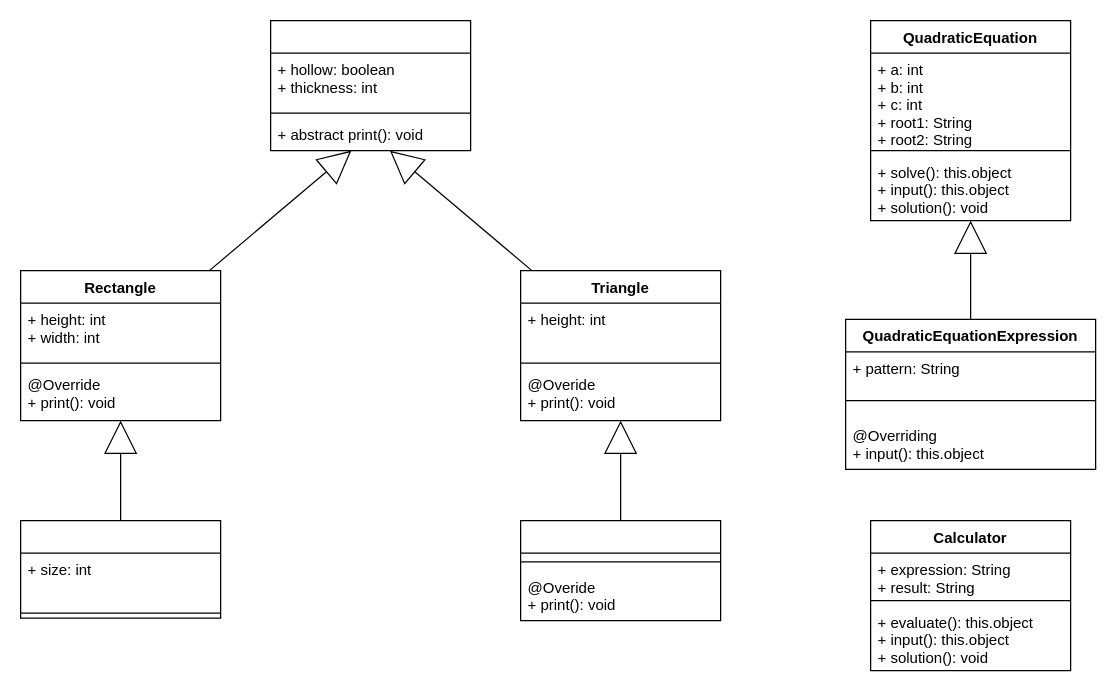
The diagram is 1116 pixels wide and 691 high, and some of its shapes have lost their labels. Here are the shapes that lost their labels. From the top down, the box of each, then its label:
(269, 19, 471, 151): Shape
(19, 519, 221, 618): Square
(519, 519, 721, 621): Diamond
